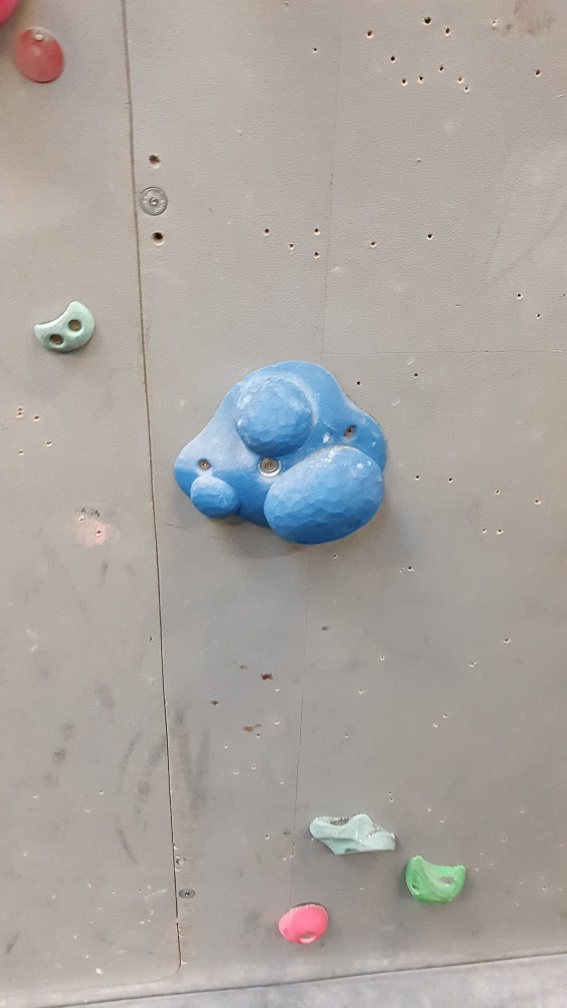Sloper: (167, 359, 388, 547)
